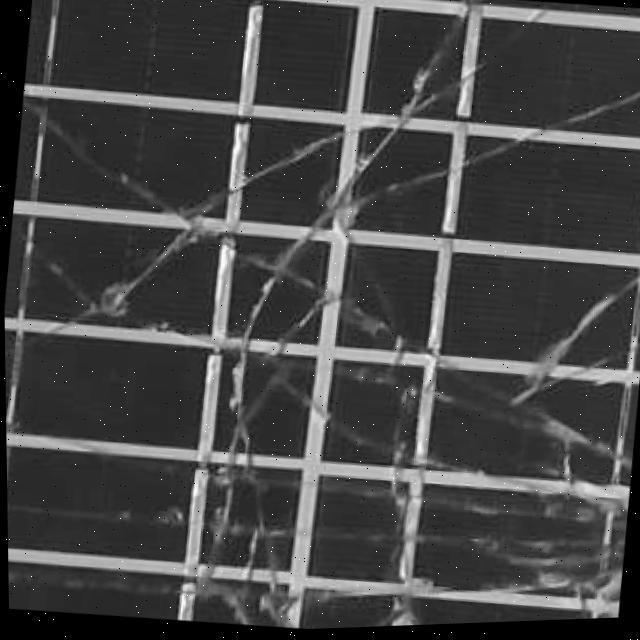Anomaly Solar Panel: (4, 0, 640, 631)
Structural Damage: (172, 5, 640, 631), (4, 61, 217, 386)
